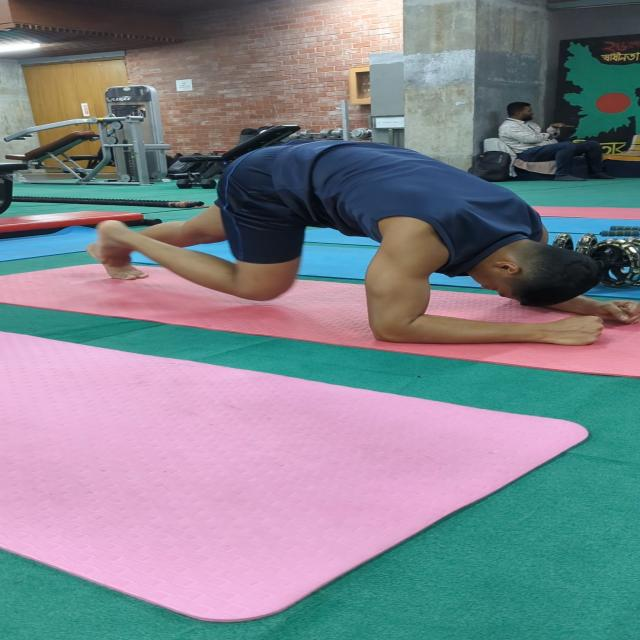Normal_MountainClimbers: (69, 146, 640, 354)
